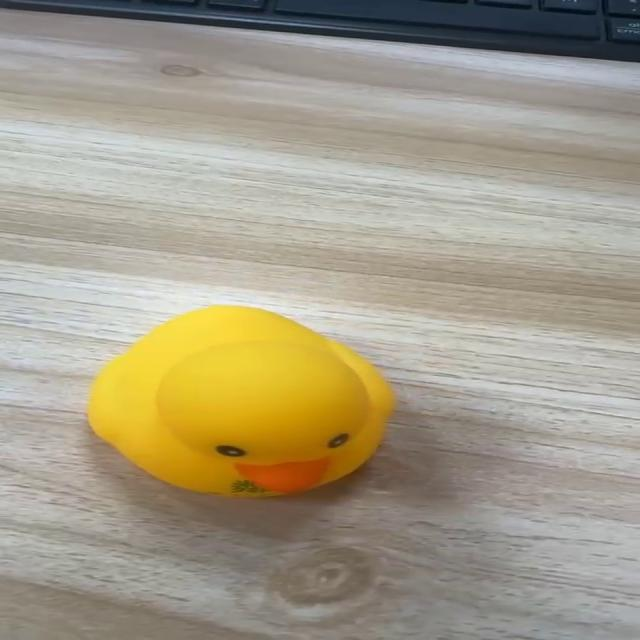yellow_duck: (84, 302, 396, 498)
